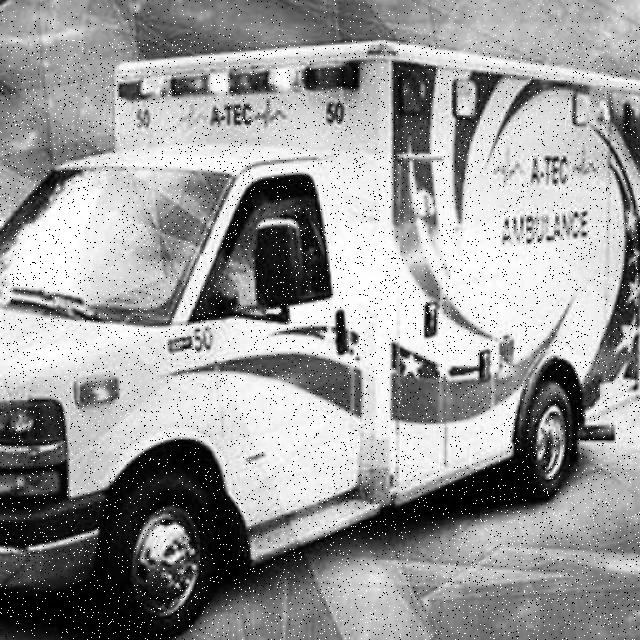Ambulance: (0, 40, 640, 640)
